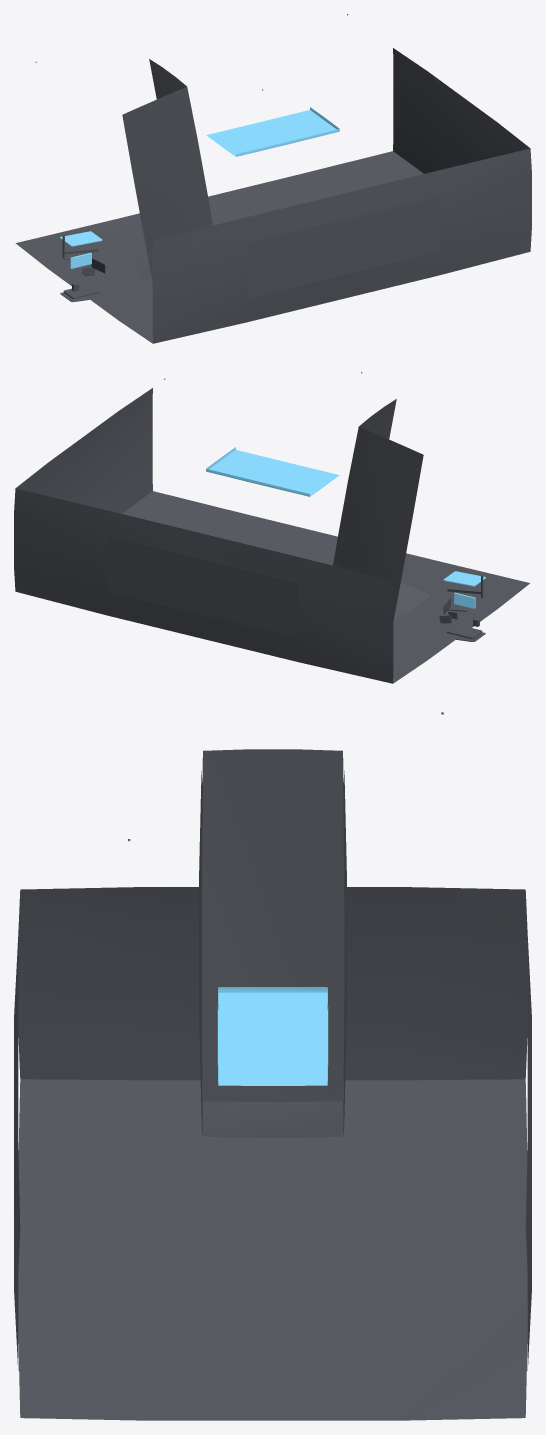
Rendered from place_station_fab.glb.
3 renders of one model, top to bottom at view 1: azimuth 30°, elevation 25°; view 2: azimuth 150°, elevation 25°; view 3: azimuth 270°, elevation 25°, orthographic. The views are drawn at different scales.
Parts seen in each view (by area): view 1: Fab_Hall, place_station_fab_Material_Mechanical_Merged, Fab_Forge_Glow, DET_edge_chamfer_band; view 2: Fab_Hall, place_station_fab_Material_Mechanical_Merged, Fab_Forge_Glow, DET_edge_chamfer_band; view 3: Fab_Hall, place_station_fab_Material_Mechanical_Merged, Fab_Forge_Glow.
Part boxes in pixels (bbox=[...]): Fab_Hall: bbox=[15, 48, 531, 343]; place_station_fab_Material_Mechanical_Merged: bbox=[35, 14, 348, 282]; Fab_Forge_Glow: bbox=[206, 107, 339, 156]; DET_edge_chamfer_band: bbox=[60, 231, 102, 246]; Fab_Hall: bbox=[14, 388, 530, 683]; place_station_fab_Material_Mechanical_Merged: bbox=[164, 372, 430, 622]; Fab_Forge_Glow: bbox=[206, 447, 339, 496]; DET_edge_chamfer_band: bbox=[443, 571, 485, 586]; Fab_Hall: bbox=[14, 887, 531, 1420]; place_station_fab_Material_Mechanical_Merged: bbox=[128, 712, 443, 1137]; Fab_Forge_Glow: bbox=[217, 987, 328, 1085].
Bounding box in the file's own units: 23.04 × 11.24 × 14.
